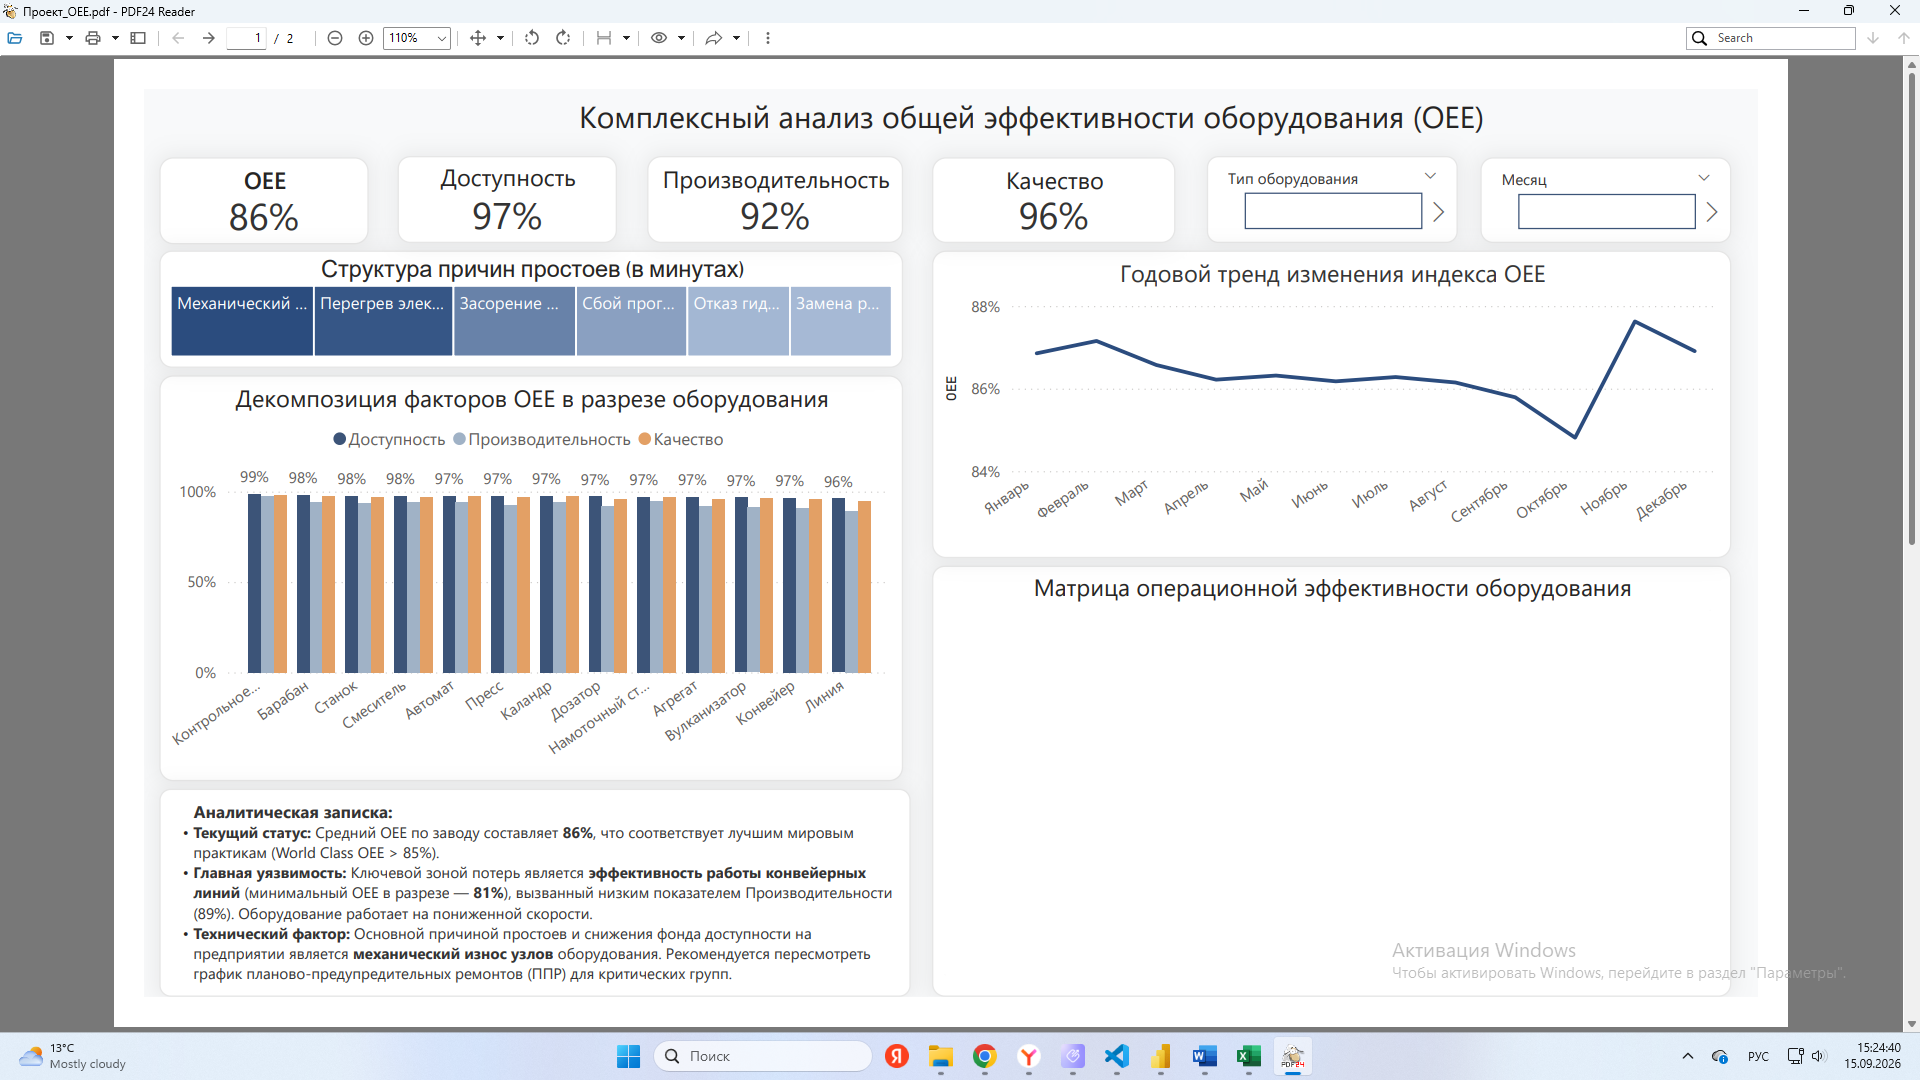

This screenshot's page, from the dashboard's own definition file:
{"tool":"powerbi","page":{"name":"Мониторинг OEE","canvas":[1280,720],"ordinal":0},"visuals":[{"type":"card","title":"OEE","fields":{"Values":["_Меры.OEE_Итоговый"]},"box":[11.5,54.1,166.7,69.2],"z":0},{"type":"slicer","fields":{"Values":["Справочник_Оборудование.Тип_Оборудования"]},"box":[843.3,53.2,198.6,69.2],"z":1000},{"type":"slicer","fields":{"Values":["Календарь.Месяц"]},"box":[1059.6,54.1,199.5,68.3],"z":2000},{"type":"pivotTable","title":"Матрица операционной эффективности оборудования","fields":{"Rows":["Справочник_Оборудование.Тип_Оборудования","Справочник_Оборудование.Номер_Станка"],"Values":["_Меры.Доступность","_Меры.Производительность","_Меры.Качество","_Меры.OEE_Итоговый"]},"box":[625.1,377.7,634,342.3],"z":3000},{"type":"lineChart","title":"Годовой тренд изменения индекса OEE","fields":{"Category":["Календарь.Месяц"],"Y":["_Меры.OEE_Итоговый"]},"box":[625.1,127.7,634,243.8],"z":4000},{"type":"clusteredColumnChart","title":"Декомпозиция факторов OEE в разрезе оборудования","fields":{"Category":["Справочник_Оборудование.Тип_Оборудования"],"Y":["_Меры.Доступность","_Меры.Производительность","_Меры.Качество"]},"box":[11.5,227,590.5,321.9],"z":5000},{"type":"treemap","title":"Структура причин простоев (в минутах)","fields":{"Group":["Лог_Ремонтов_ТОиР3.Причина_Остановки"],"Values":["_Меры.Длительность_Ремонтов_ТОиР_мин"]},"box":[11.5,127.7,590.5,93.1],"z":6000},{"type":"card","title":"Доступность","fields":{"Values":["_Меры.Доступность"]},"box":[201.3,53.2,173.8,69.2],"z":7000},{"type":"card","title":"Качество","fields":{"Values":["_Меры.Качество"]},"box":[625.1,54.1,193.3,68.3],"z":8000},{"type":"card","title":"Производительность","fields":{"Values":["_Меры.Производительность"]},"box":[399,53.2,203.1,69.2],"z":9000},{"type":"textbox","box":[335.2,0,738.6,53.2],"z":10000},{"type":"textbox","box":[11.5,555.1,596.7,164.9],"z":11000}]}

Visuals, with their boxes on the page's 1280x720 design canvas (x1, y1, x2, y2). These are canvas units, not pixel positions in the 1920x1080 screenshot, which may show the page scaled, cropped or inside an application window:
"OEE" card: detection(12, 54, 178, 123)
slicer - Справочник_Оборудование.Тип_Оборудования: detection(843, 53, 1042, 122)
slicer - Календарь.Месяц: detection(1060, 54, 1259, 122)
"Матрица операционной эффективности оборудования" pivotTable: detection(625, 378, 1259, 720)
"Годовой тренд изменения индекса OEE" lineChart: detection(625, 128, 1259, 372)
"Декомпозиция факторов OEE в разрезе оборудования" clusteredColumnChart: detection(12, 227, 602, 549)
"Структура причин простоев (в минутах)" treemap: detection(12, 128, 602, 221)
"Доступность" card: detection(201, 53, 375, 122)
"Качество" card: detection(625, 54, 818, 122)
"Производительность" card: detection(399, 53, 602, 122)
textbox: detection(335, 0, 1074, 53)
textbox: detection(12, 555, 608, 720)
